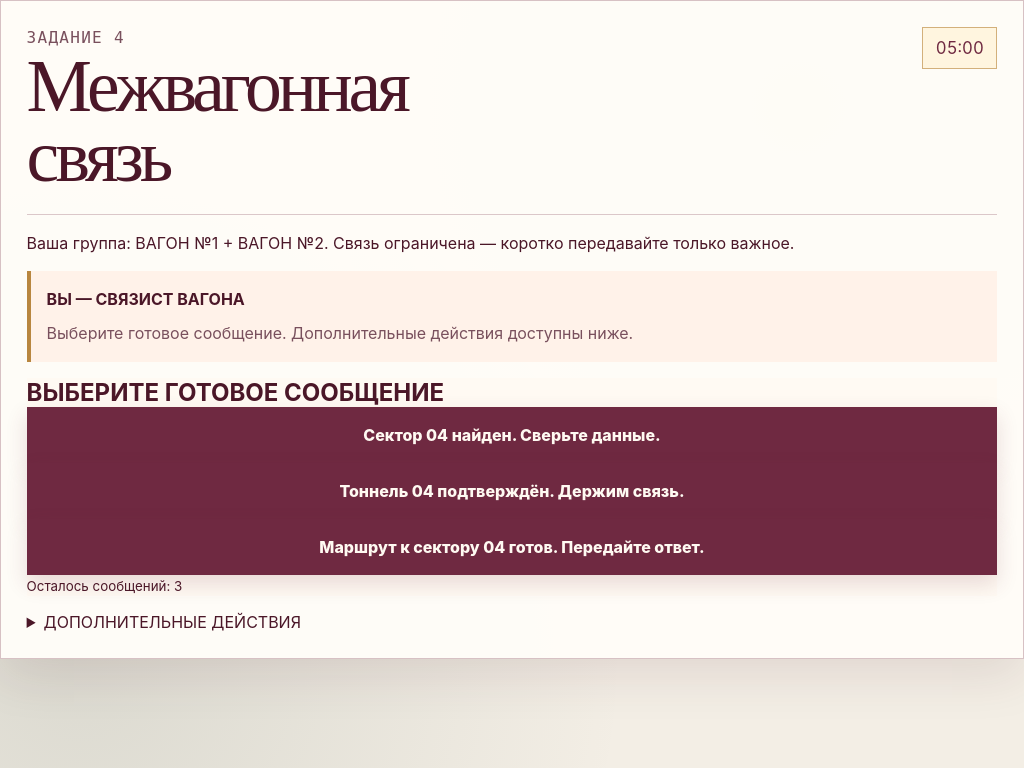
Test: MissionFourPlayer › offers the communicator exactly three prepared valid messages through the existing send action
The image size is (1024, 768).
Expected: the button "Сектор 04 найден. Сверьте данные." is shown, [27,407,997,463]
Expected: the button "Маршрут к сектору 04 готов. Передайте ответ." is shown, [27,519,997,575]
Click the button "Тоннель 04 подтверждён. Держим связь." at (512, 491), box [27,463,997,519]
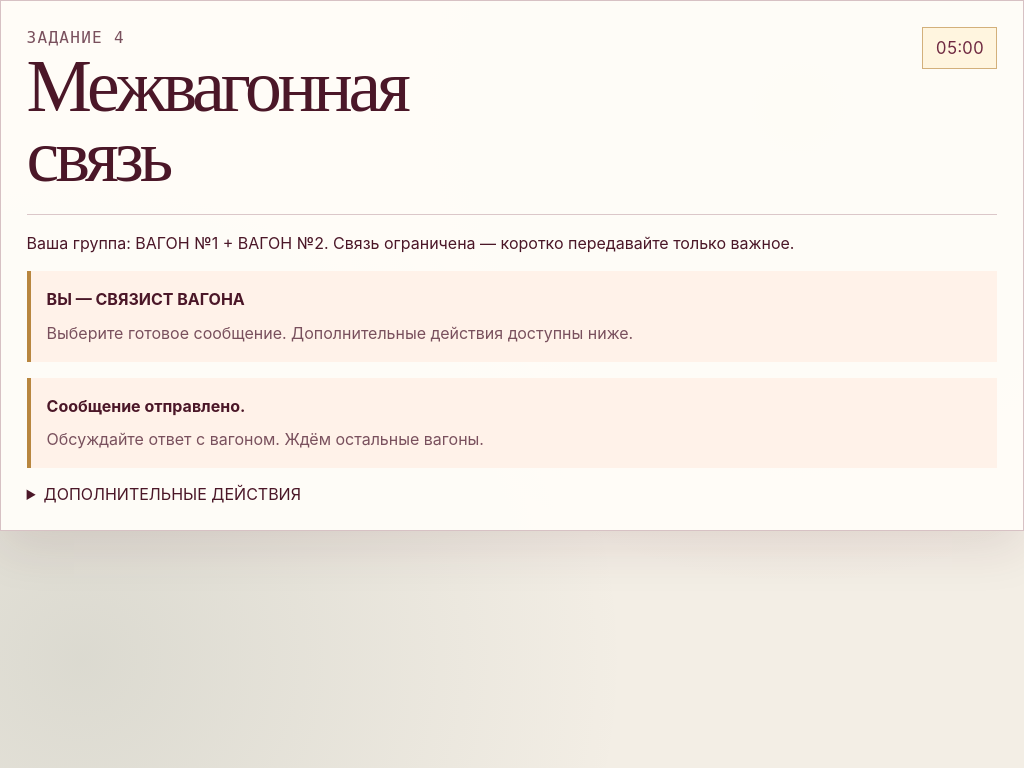
Now the message named "Сообщение связиста" reads "Сообщение отправлено. Обсуждайте ответ с вагоном. Ждём остальные вагоны.", box [27,378,997,468]
